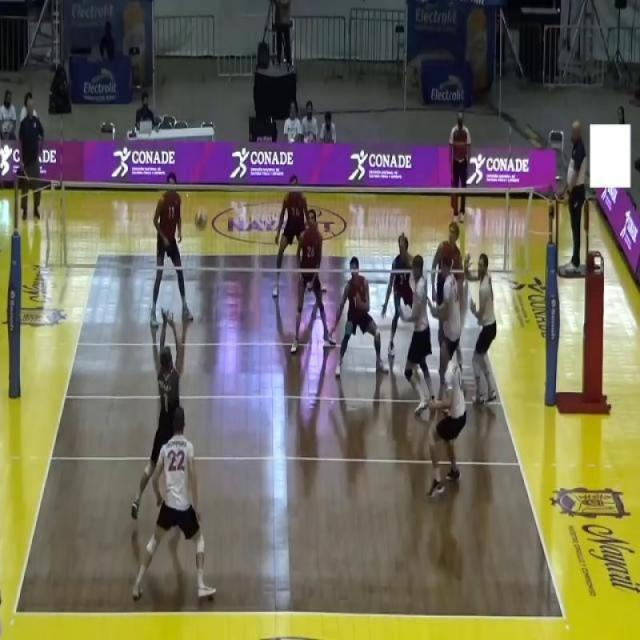volleyball: (194, 208, 208, 232)
